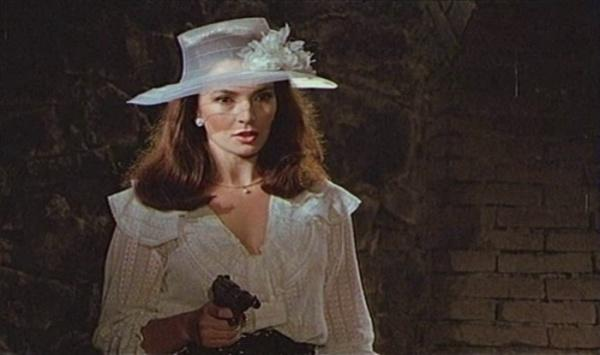Gun: (205, 276, 259, 319)
